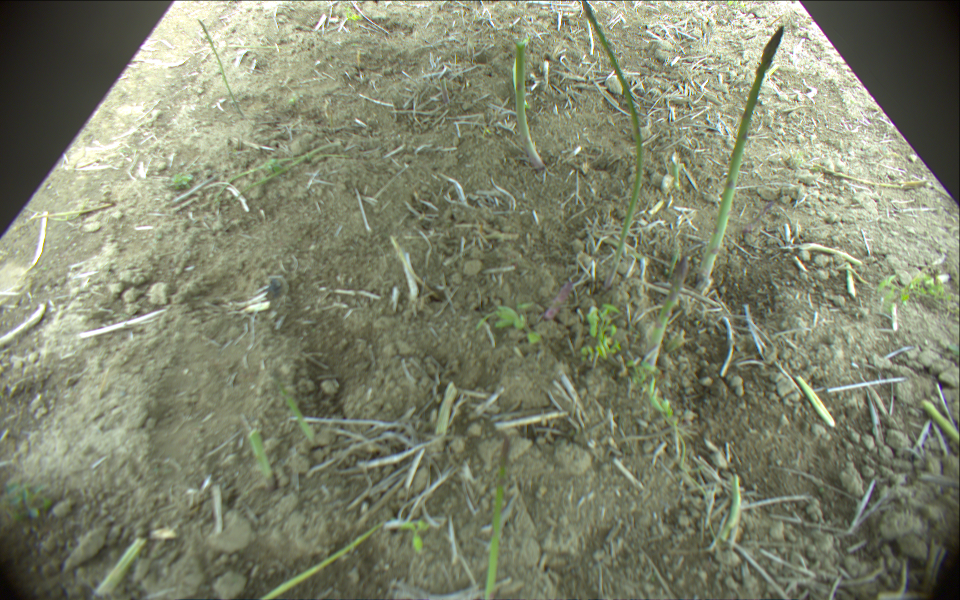aspa: (695, 24, 785, 289), (579, 1, 643, 286), (260, 525, 382, 600), (644, 256, 690, 372), (482, 438, 510, 600), (512, 39, 546, 169), (198, 21, 243, 114), (920, 400, 960, 446), (544, 278, 573, 321)
